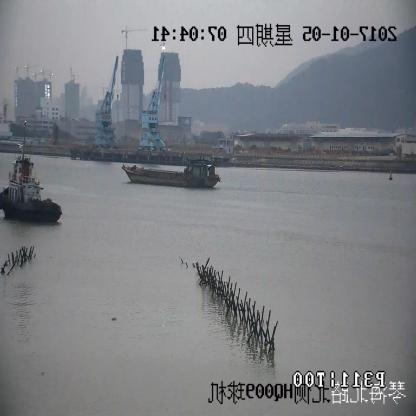Bulk Carrier: (122, 163, 218, 188)
